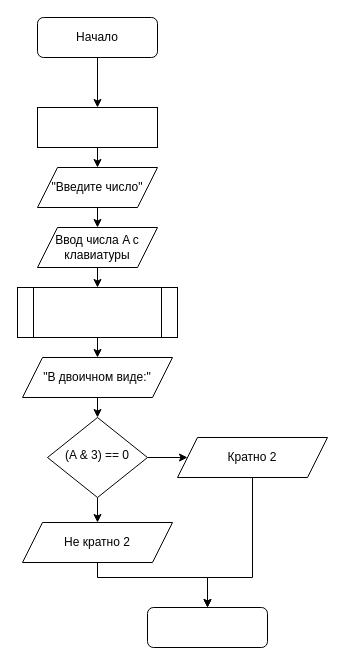
Image size: 345x665. Some labels were removed from this diagram. Each missing label, with the centre of its shape:
"_itoa_s(A, tmp, 2)" goes at point (97, 312).
"int A, i; char tmp[33]" goes at point (97, 127).
"Конец" goes at point (207, 627).
